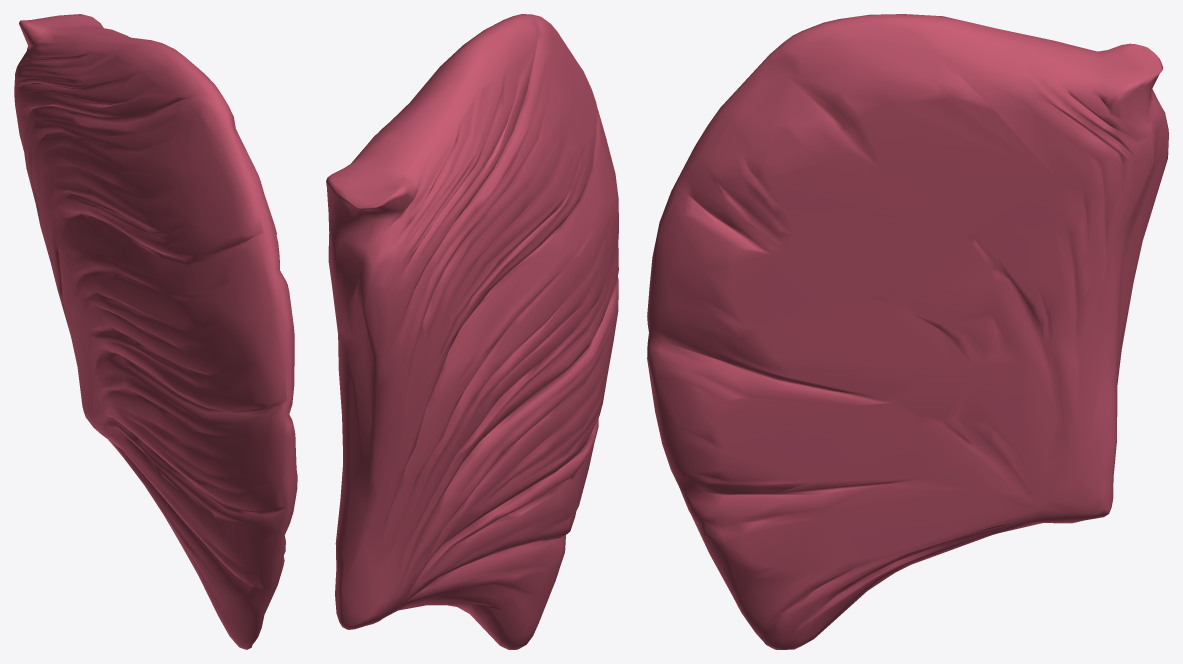
3 views of the same model, side by side, from view 1: azimuth 30°, elevation 25°; view 2: azimuth 150°, elevation 25°; view 3: azimuth 270°, elevation 25° (orthographic). The views are drawn at different scales.
Visible parts, largest first — view 1: 右侧颏舌肌; view 2: 右侧颏舌肌; view 3: 右侧颏舌肌.
Boxes of the visible parts, x1=… form: 右侧颏舌肌: x1=14, y1=14, x2=297, y2=649; 右侧颏舌肌: x1=326, y1=14, x2=618, y2=649; 右侧颏舌肌: x1=647, y1=14, x2=1168, y2=649.
Size of the model in its own units: 0.0112 by 0.0701 by 0.0533.
